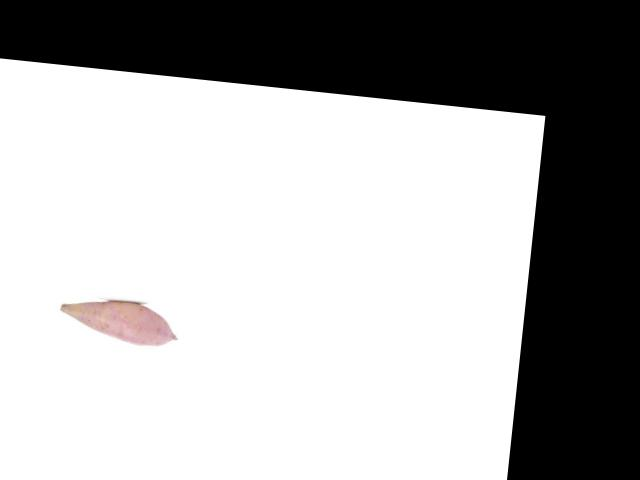sweet_potato: (57, 297, 181, 349)
